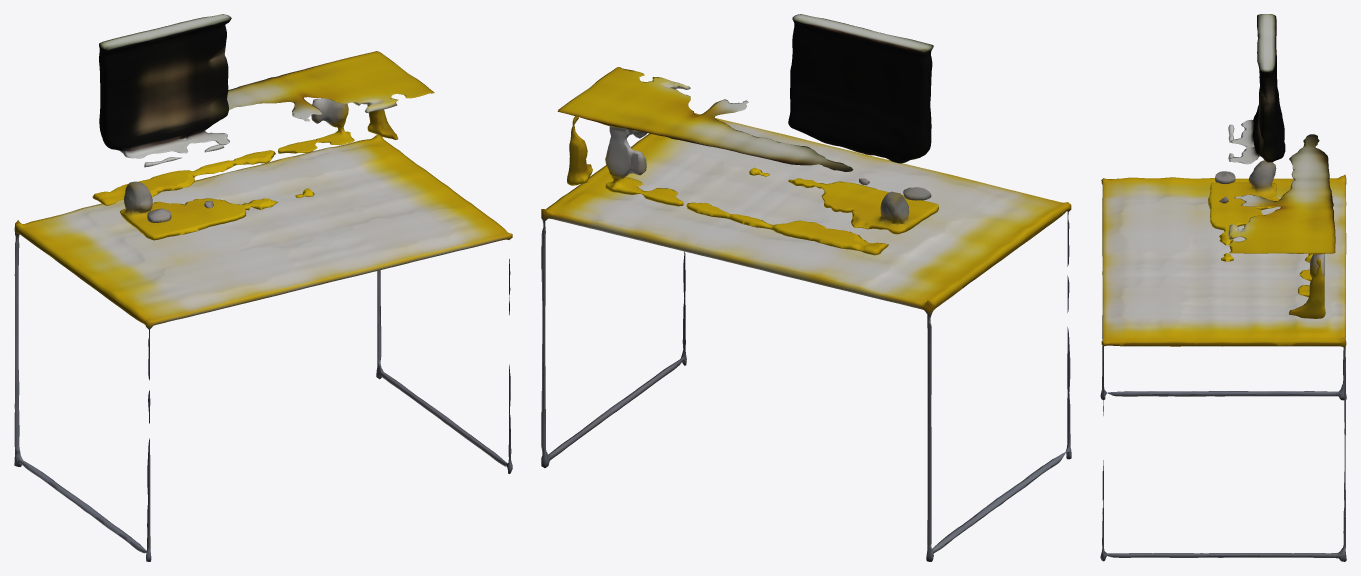
File: A double-leveled computer table with a metallic fr.glb
3 renders of one model, left to right at view 1: azimuth 30°, elevation 25°; view 2: azimuth 150°, elevation 25°; view 3: azimuth 270°, elevation 25°, orthographic. The views are drawn at different scales.
Visible parts, largest first — view 1: A double-leveled computer table with a metallic fr; view 2: A double-leveled computer table with a metallic fr; view 3: A double-leveled computer table with a metallic fr.
Boxes of the visible parts, bbox=[...] form: A double-leveled computer table with a metallic fr: bbox=[14, 14, 512, 561]; A double-leveled computer table with a metallic fr: bbox=[541, 14, 1071, 561]; A double-leveled computer table with a metallic fr: bbox=[1100, 14, 1346, 561].
Size of the model in its own units: 1.73 by 1.98 by 1.09.
